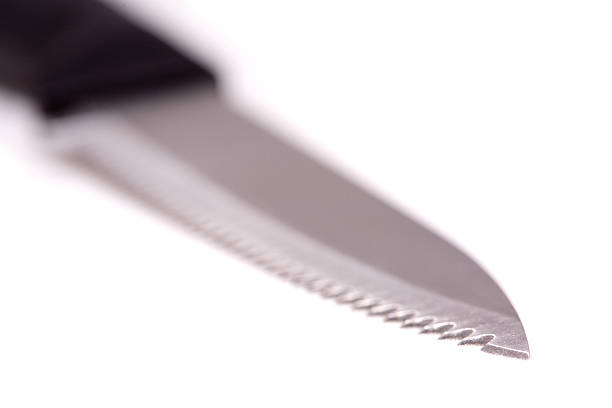knife: (0, 0, 534, 363)
